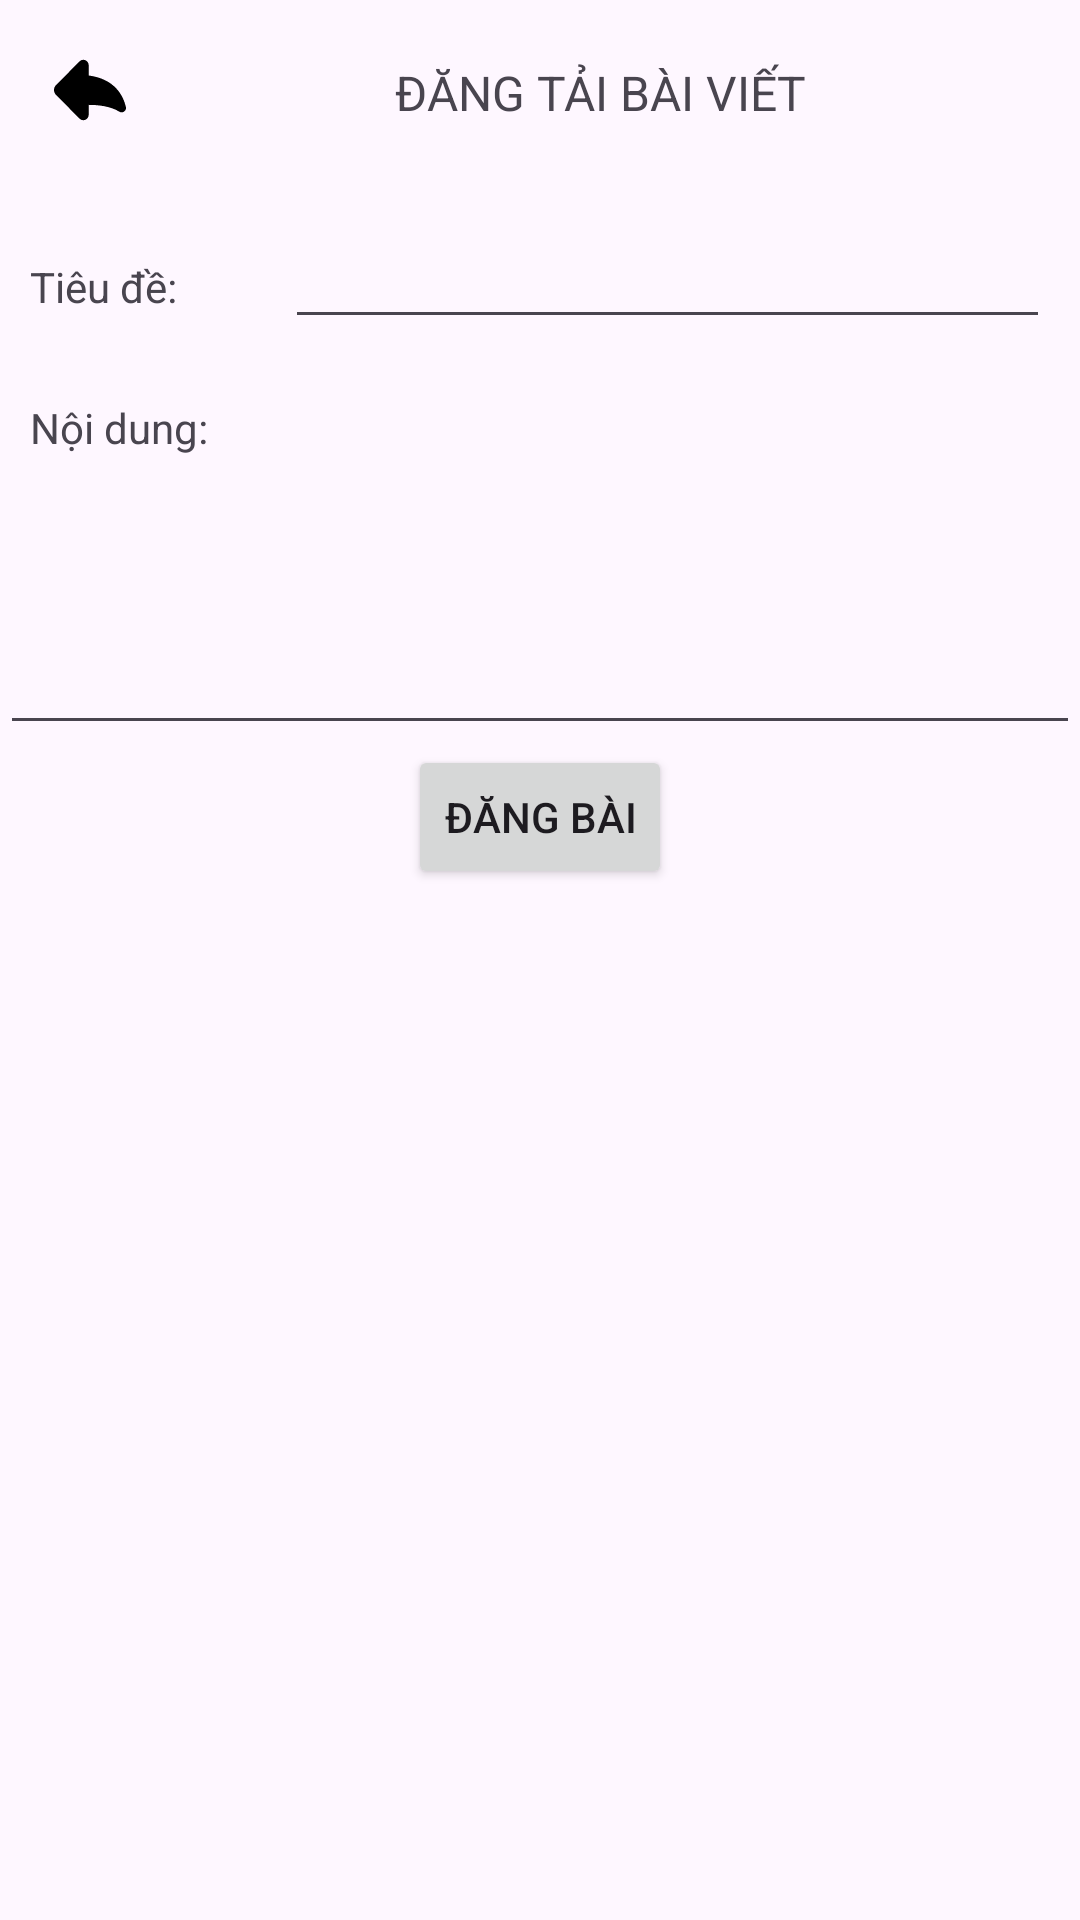

Screen size 1080x1920. Icon name, then its box in pixels as (x1, y1, x2, y2):
back arrow: (54, 59, 126, 121)
